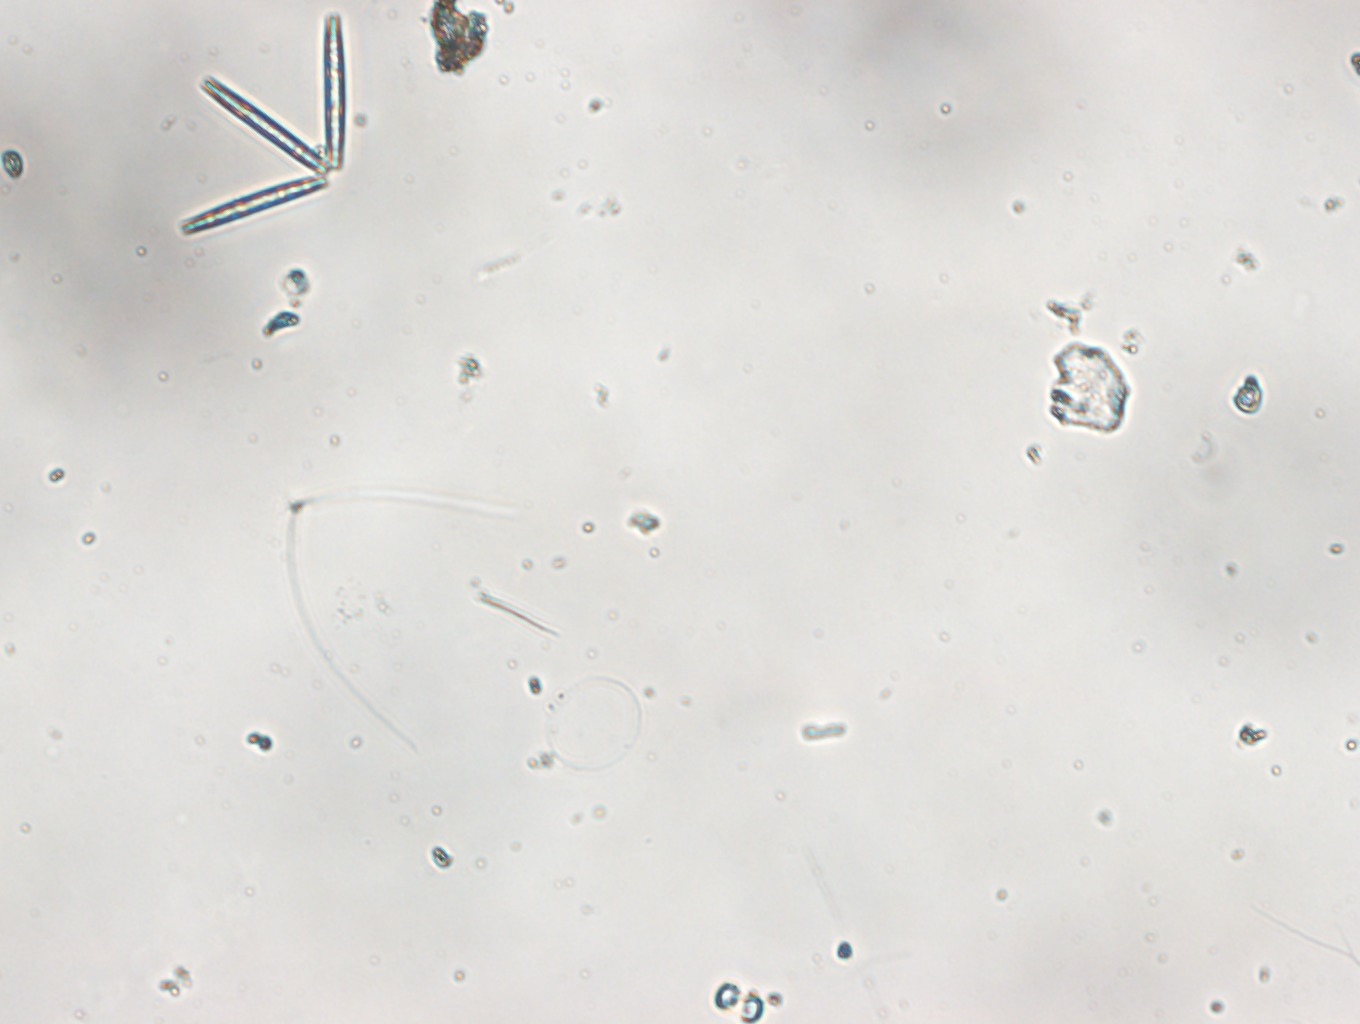thalassionema nitzschioides: (160, 13, 366, 239)
